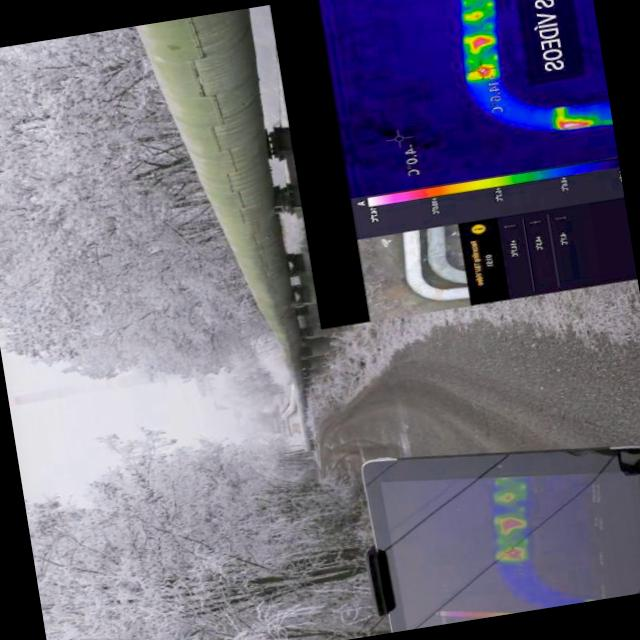gas: (136, 8, 309, 396)
